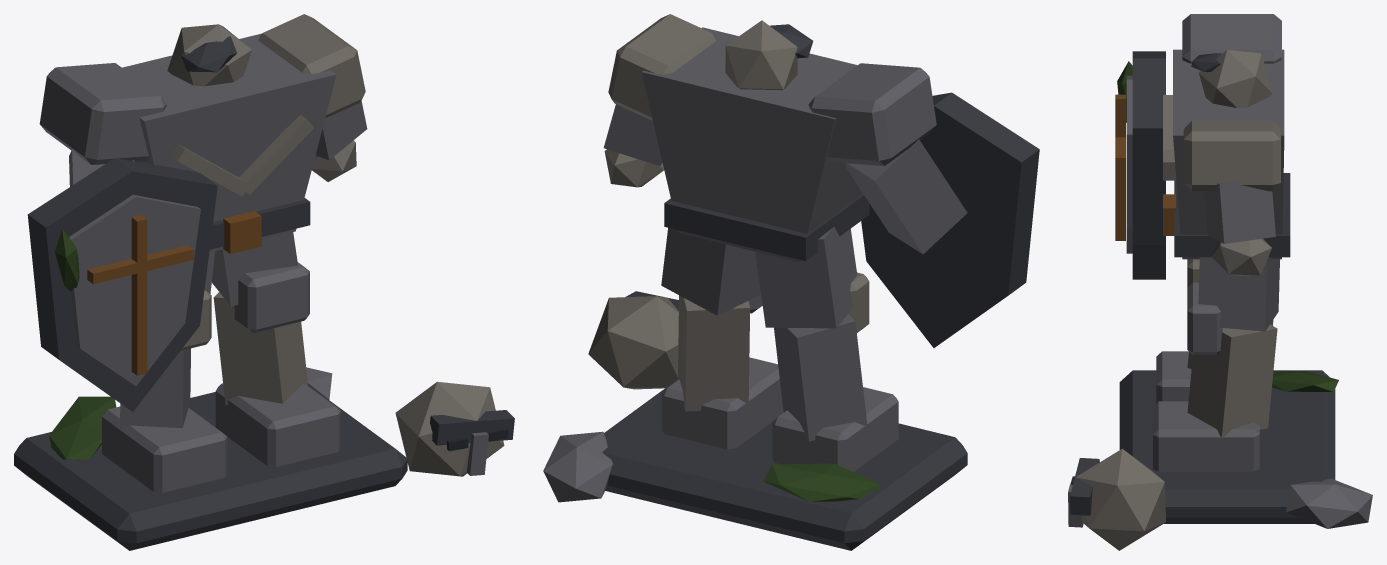
The model's file is Broken_Guardian_Statue.glb.
3 renders of one model, left to right at view 1: azimuth 30°, elevation 25°; view 2: azimuth 150°, elevation 25°; view 3: azimuth 270°, elevation 25°, orthographic. The views are drawn at different scales.
Visible parts, largest first — view 1: Broken_Guardian_Statue; view 2: Broken_Guardian_Statue; view 3: Broken_Guardian_Statue.
Part boxes in pixels (bbox=[...]): Broken_Guardian_Statue: bbox=[14, 14, 514, 550]; Broken_Guardian_Statue: bbox=[543, 14, 1039, 550]; Broken_Guardian_Statue: bbox=[1068, 14, 1372, 550].
Size of the model in its own units: 1.98 by 1.94 by 1.29.
